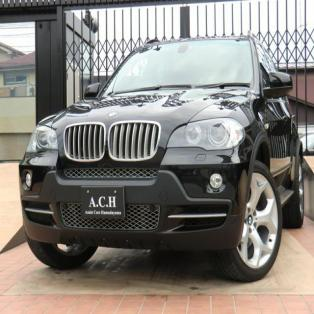Auto: (17, 36, 304, 283)
